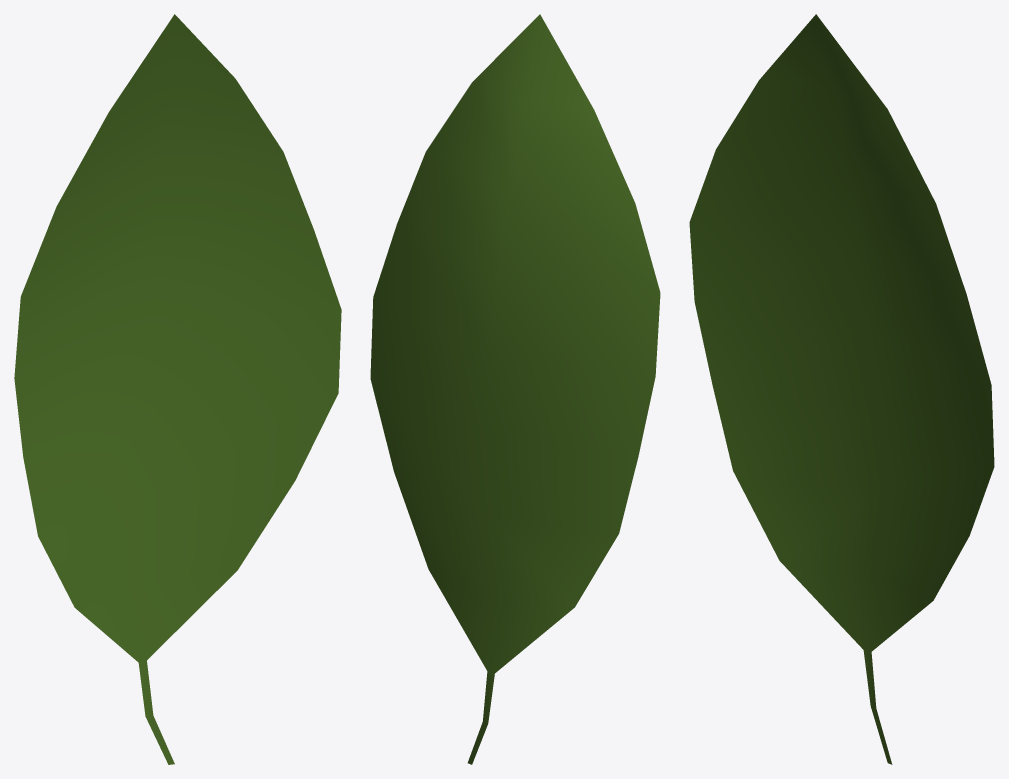
The model's file is leaf.glb.
3 views of the same model, side by side, from view 1: azimuth 30°, elevation 25°; view 2: azimuth 150°, elevation 25°; view 3: azimuth 330°, elevation 25° (orthographic). The views are drawn at different scales.
Visible parts, largest first — view 1: Leaf; view 2: Leaf; view 3: Leaf.
Part boxes in pixels (x1,y1,x2,y2): Leaf: (14,14,341,764); Leaf: (370,14,660,764); Leaf: (689,14,994,764).
Bounding box in the file's own units: 1.08 × 2.59 × 0.2557.
